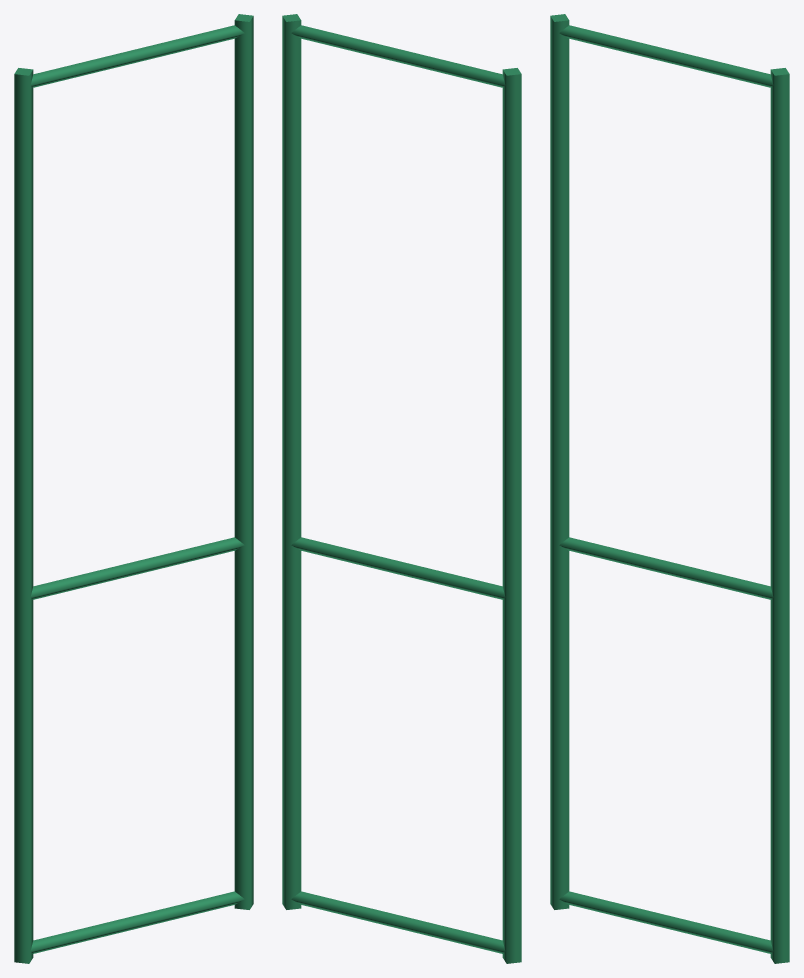
The model's file is mcp_street_fence_02_LOD_1.FBX.
The picture shows the model from 3 angles, left to right: view 1: azimuth 30°, elevation 25°; view 2: azimuth 150°, elevation 25°; view 3: azimuth 330°, elevation 25°; orthographic projection.
Visible parts, largest first — view 1: mcp_street_fence_02; view 2: mcp_street_fence_02; view 3: mcp_street_fence_02.
Boxes of the visible parts, bbox=[...] form: mcp_street_fence_02: bbox=[14, 14, 253, 963]; mcp_street_fence_02: bbox=[282, 14, 521, 963]; mcp_street_fence_02: bbox=[550, 14, 789, 963].
Bounding box in the file's own units: 80.5 × 285 × 6.38.
